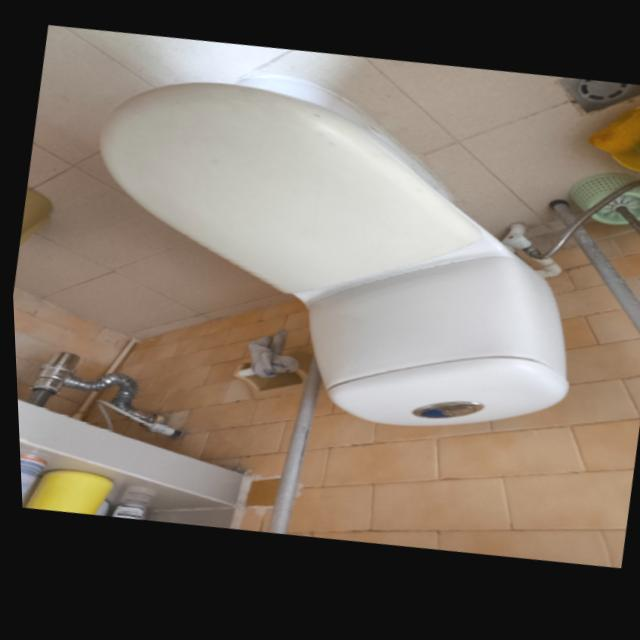toilet: (37, 36, 619, 486)
